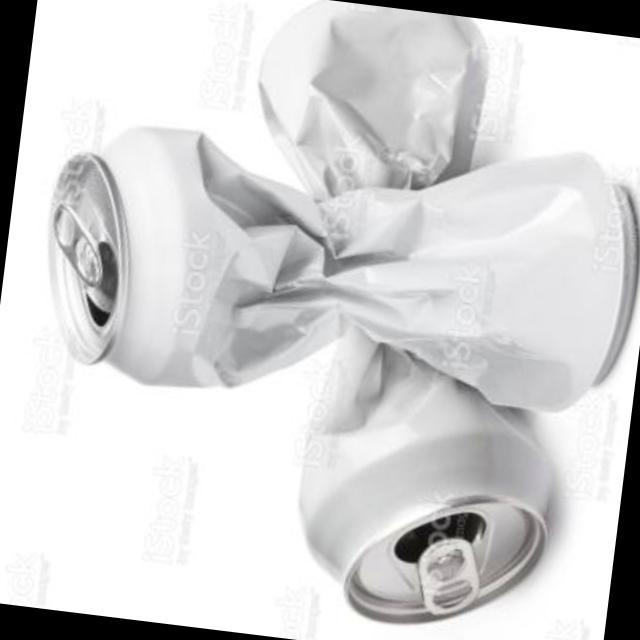metal: (47, 0, 635, 622)
